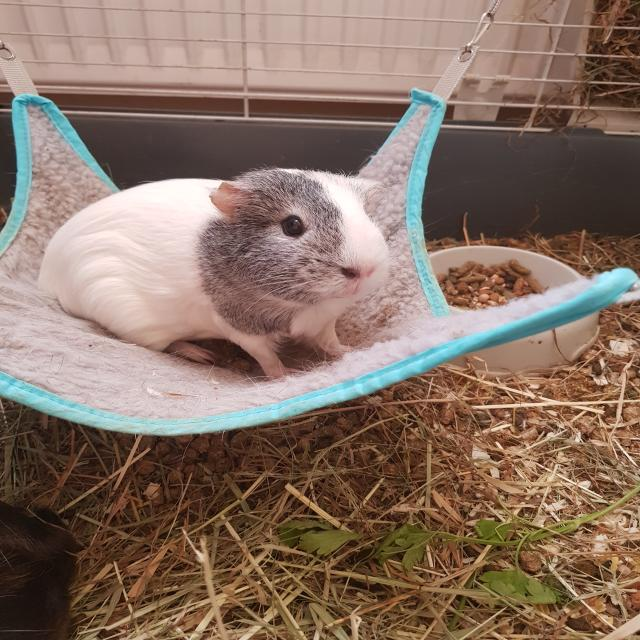guinea pig: (29, 168, 398, 383)
